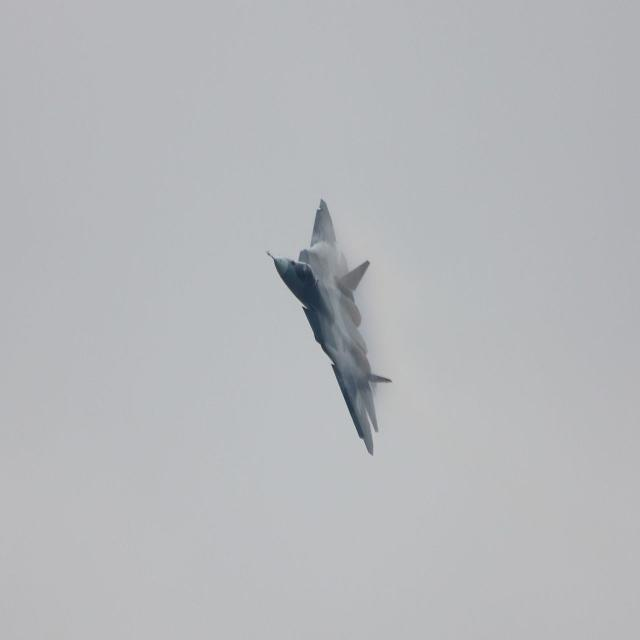MIL_Plane: (265, 198, 392, 457)
